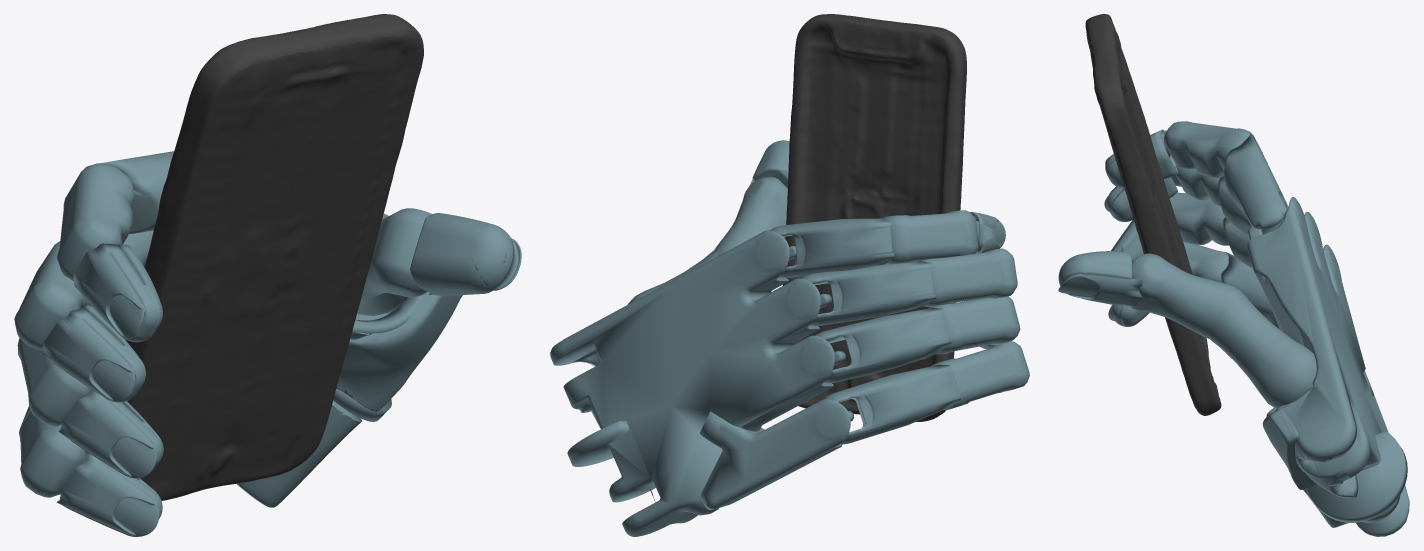
The picture shows the model from 3 angles, left to right: view 1: azimuth 30°, elevation 25°; view 2: azimuth 150°, elevation 25°; view 3: azimuth 270°, elevation 25°; orthographic projection. The views are drawn at different scales.
Parts seen in each view (by area): view 1: world; view 2: world; view 3: world.
Boxes of the visible parts, bbox=[...] form: world: bbox=[14, 14, 521, 536]; world: bbox=[550, 14, 1029, 536]; world: bbox=[1058, 14, 1409, 536].
Bounding box in the file's own units: 0.1697 × 0.1847 × 0.1328.
Materials: 1 (1 with a texture image).
